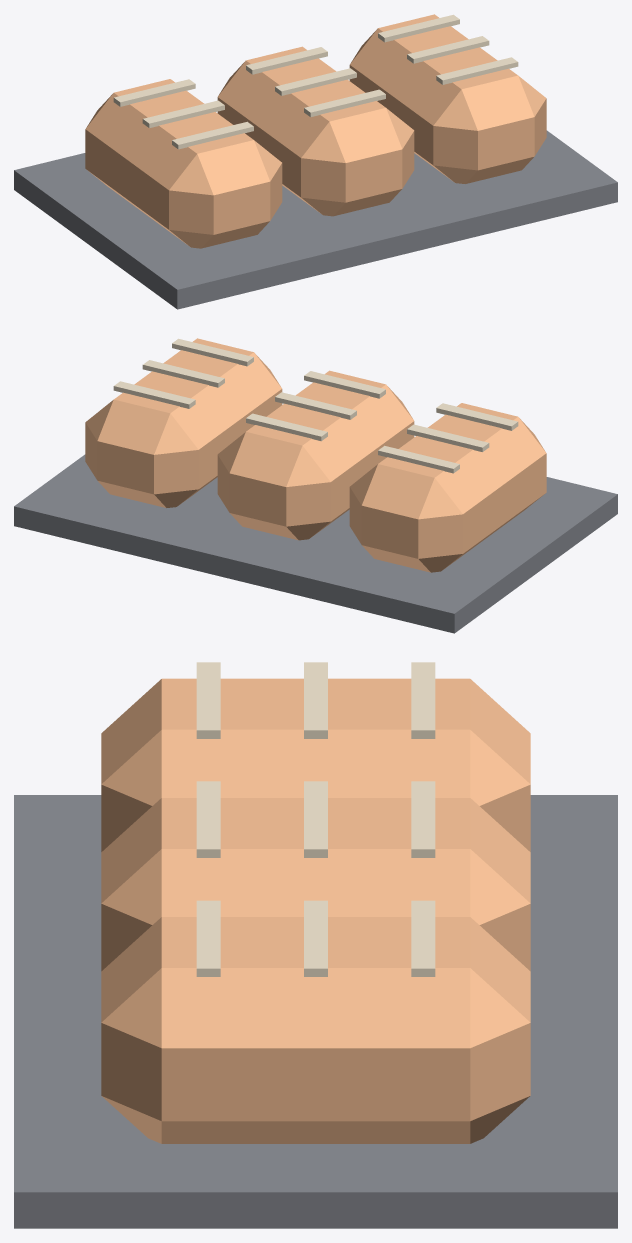
The picture shows the model from 3 angles, top to bottom: view 1: azimuth 30°, elevation 25°; view 2: azimuth 150°, elevation 25°; view 3: azimuth 270°, elevation 25°; orthographic projection. The views are drawn at different scales.
Parts seen in each view (by area): view 1: Baking tray, Bread loaf, Bread loaf.001, Bread loaf.002, Bread score.001, Bread score.002, Bread score.006, Bread score.007, Bread score, Bread score.005, Bread score.004, Bread score.008 (+1 smaller); view 2: Baking tray, Bread loaf, Bread loaf.001, Bread loaf.002, Bread score, Bread score.001, Bread score.008, Bread score.007, Bread score.002, Bread score.003, Bread score.004, Bread score.006 (+1 smaller); view 3: Baking tray, Bread loaf.002, Bread loaf, Bread loaf.001, Bread score, Bread score.002, Bread score.003, Bread score.005, Bread score.006, Bread score.008, Bread score.001, Bread score.004 (+1 smaller).
Part boxes in pixels (left/top/right/bottom): Baking tray: left=14, top=130, right=617, bottom=309; Bread loaf: left=85, top=79, right=282, bottom=248; Bread loaf.001: left=217, top=46, right=414, bottom=216; Bread loaf.002: left=349, top=14, right=546, bottom=183; Bread score.001: left=142, top=100, right=224, bottom=127; Bread score.002: left=113, top=79, right=195, bottom=106; Bread score.006: left=436, top=57, right=518, bottom=84; Bread score.007: left=407, top=36, right=489, bottom=63; Bread score: left=172, top=121, right=253, bottom=149; Bread score.005: left=246, top=47, right=327, bottom=74; Bread score.004: left=275, top=68, right=356, bottom=95; Bread score.008: left=378, top=14, right=459, bottom=42; Baking tray: left=14, top=454, right=617, bottom=633; Bread loaf: left=349, top=403, right=546, bottom=572; Bread loaf.001: left=217, top=370, right=414, bottom=540; Bread loaf.002: left=85, top=338, right=282, bottom=507; Bread score: left=436, top=403, right=518, bottom=430; Bread score.001: left=407, top=424, right=489, bottom=451; Bread score.008: left=113, top=381, right=195, bottom=408; Bread score.007: left=142, top=360, right=224, bottom=387; Bread score.002: left=378, top=445, right=459, bottom=473; Bread score.003: left=304, top=371, right=385, bottom=398; Bread score.004: left=275, top=392, right=356, bottom=419; Bread score.006: left=172, top=338, right=253, bottom=366; Baking tray: left=14, top=795, right=617, bottom=1228; Bread loaf.002: left=101, top=917, right=530, bottom=1143; Bread loaf: left=101, top=678, right=530, bottom=851; Bread loaf.001: left=101, top=798, right=530, bottom=971; Bread score: left=196, top=662, right=220, bottom=738; Bread score.002: left=411, top=662, right=435, bottom=738; Bread score.003: left=196, top=781, right=220, bottom=857; Bread score.005: left=411, top=781, right=435, bottom=857; Bread score.006: left=196, top=900, right=220, bottom=976; Bread score.008: left=411, top=900, right=435, bottom=976; Bread score.001: left=304, top=662, right=327, bottom=738; Bread score.004: left=304, top=781, right=327, bottom=857.
Bounding box in the file's own units: 0.7 × 0.1765 × 0.45.
1 material, 1 textured.
